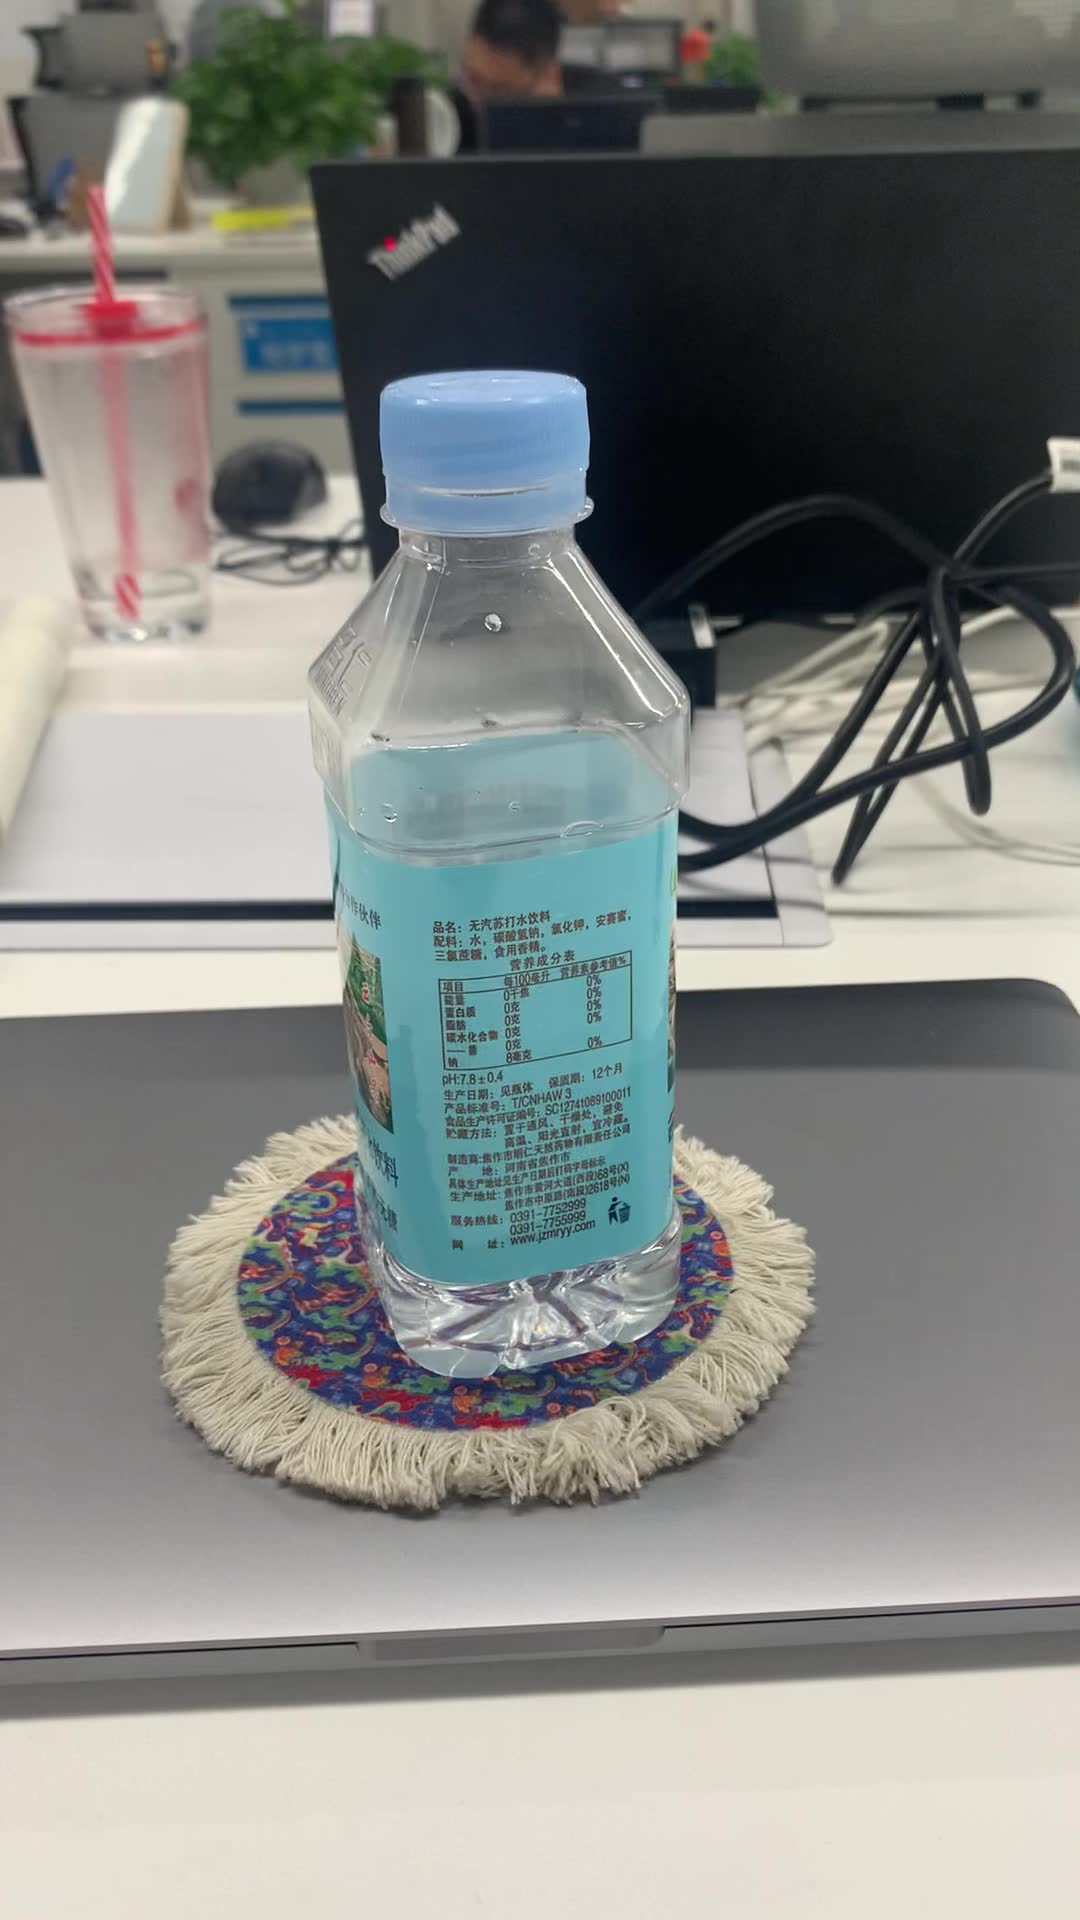水瓶: (305, 369, 709, 1367)
